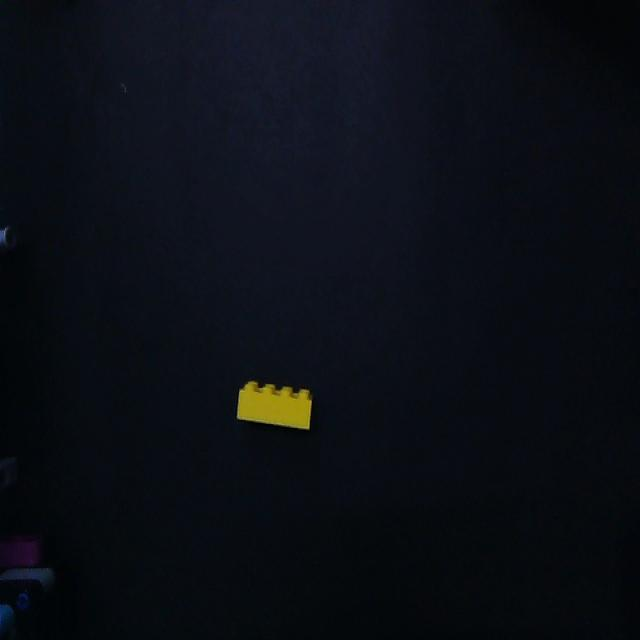lego_brick: (238, 381, 311, 428)
